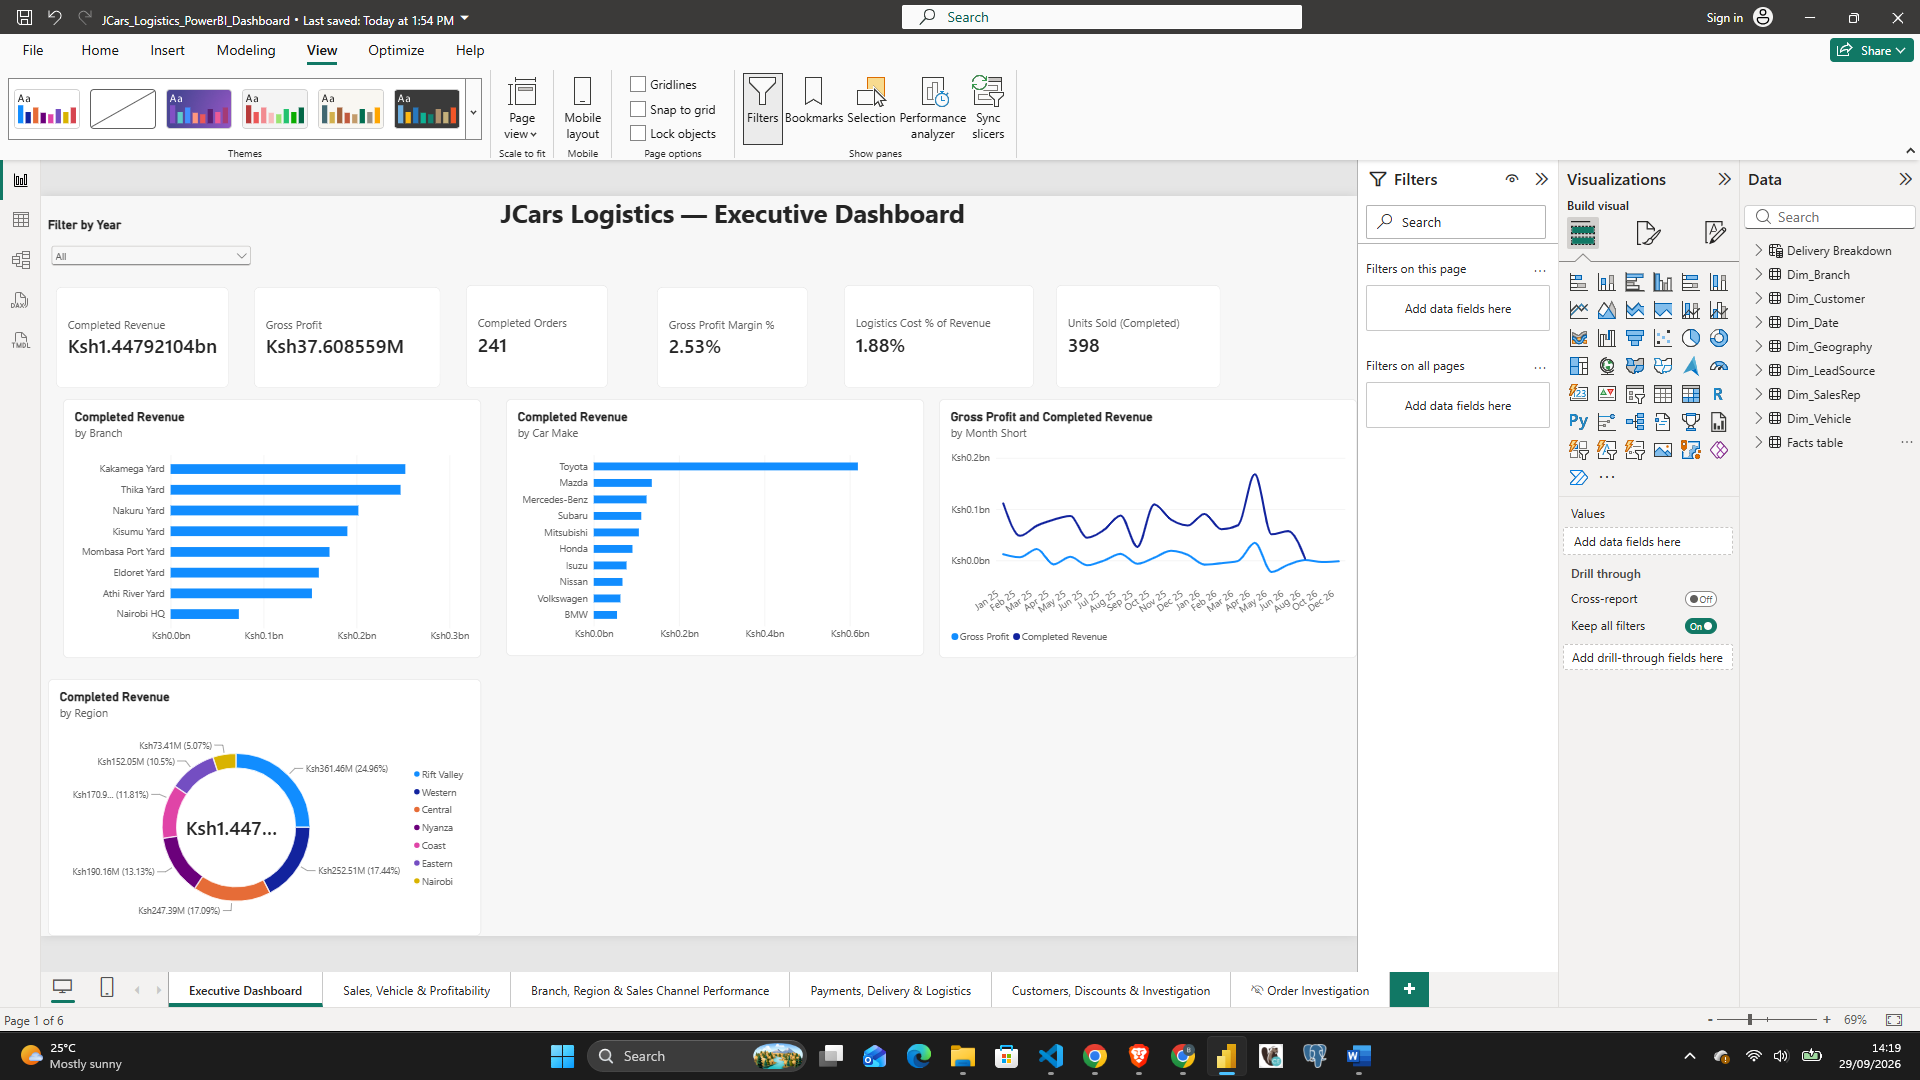

The dashboard page shown, as its layout file describes it:
{"tool":"powerbi","page":{"name":"Executive Dashboard","canvas":[1920,1080],"ordinal":0},"visuals":[{"type":"lineChart","fields":{"Y":["Facts table.Gross Profit","Facts table.Completed Revenue"],"Category":["Dim_Date.Month Short"]},"box":[1310.2,296.2,609.8,377.9],"z":0},{"type":"barChart","fields":{"Category":["Dim_Branch.Branch"],"Y":["Facts table.Completed Revenue"]},"box":[32.1,296.2,609.8,377.9],"z":1000},{"type":"barChart","fields":{"Category":["Dim_Vehicle.Car Make"],"Y":["Facts table.Completed Revenue"]},"box":[678.4,296.2,609.8,375],"z":2000},{"type":"slicer","title":"Filter by Year","fields":{"Values":["Dim_Date.Year"]},"box":[10.2,30.6,300.5,102.1],"z":3000},{"type":"textbox","box":[398.3,0,1221.2,59.8],"z":4000},{"type":"cardVisual","fields":{"Data":["Facts table.Gross Profit Margin %"]},"box":[898.7,132.8,220.3,147.4],"z":5000},{"type":"cardVisual","fields":{"Data":["Facts table.Logistics Cost % of Revenue"]},"box":[1171.6,129.8,277.2,150.3],"z":6000},{"type":"cardVisual","fields":{"Data":["Facts table.Units Sold (Completed)"]},"box":[1480.9,129.8,240.7,150.3],"z":7000},{"type":"cardVisual","fields":{"Data":["Facts table.Completed Revenue"]},"box":[21.9,132.8,252.4,147.4],"z":8000},{"type":"cardVisual","fields":{"Data":["Facts table.Gross Profit"]},"box":[310.8,132.8,272.8,147.4],"z":9000},{"type":"cardVisual","fields":{"Data":["Facts table.Completed Orders"]},"box":[620.1,129.8,207.2,150.3],"z":10000},{"type":"donutChart","fields":{"Category":["Dim_Geography.Region"],"Y":["Facts table.Completed Revenue"]},"box":[10.2,704.7,631.7,375],"z":11000}]}

Visuals, with their boxes on the page's 1920x1080 design canvas (x1, y1, x2, y2). These are canvas units, not pixel positions in the 1920x1080 screenshot, which may show the page scaled, cropped or inside an application window:
lineChart - Facts table.Gross Profit x Facts table.Completed Revenue: Rect(1310, 296, 1920, 674)
barChart - Dim_Branch.Branch x Facts table.Completed Revenue: Rect(32, 296, 642, 674)
barChart - Dim_Vehicle.Car Make x Facts table.Completed Revenue: Rect(678, 296, 1288, 671)
"Filter by Year" slicer: Rect(10, 31, 311, 133)
textbox: Rect(398, 0, 1620, 60)
cardVisual - Facts table.Gross Profit Margin %: Rect(899, 133, 1119, 280)
cardVisual - Facts table.Logistics Cost % of Revenue: Rect(1172, 130, 1449, 280)
cardVisual - Facts table.Units Sold (Completed): Rect(1481, 130, 1722, 280)
cardVisual - Facts table.Completed Revenue: Rect(22, 133, 274, 280)
cardVisual - Facts table.Gross Profit: Rect(311, 133, 584, 280)
cardVisual - Facts table.Completed Orders: Rect(620, 130, 827, 280)
donutChart - Dim_Geography.Region x Facts table.Completed Revenue: Rect(10, 705, 642, 1080)
